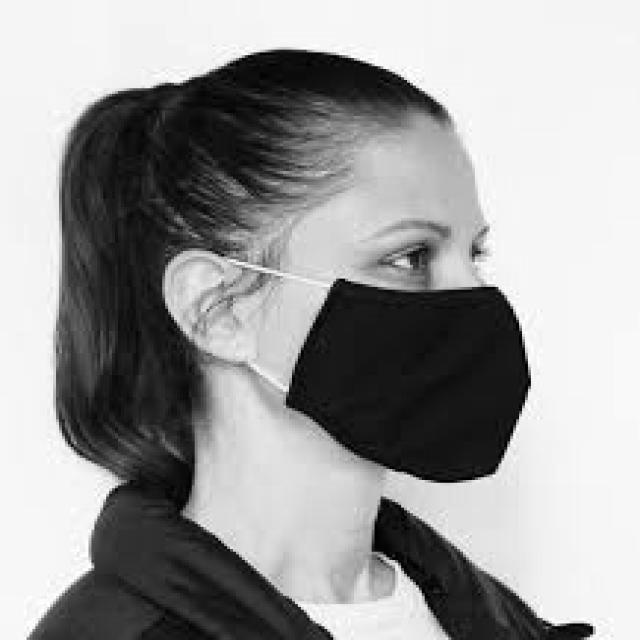fake: (281, 284, 537, 483)
real: (282, 120, 491, 485)
